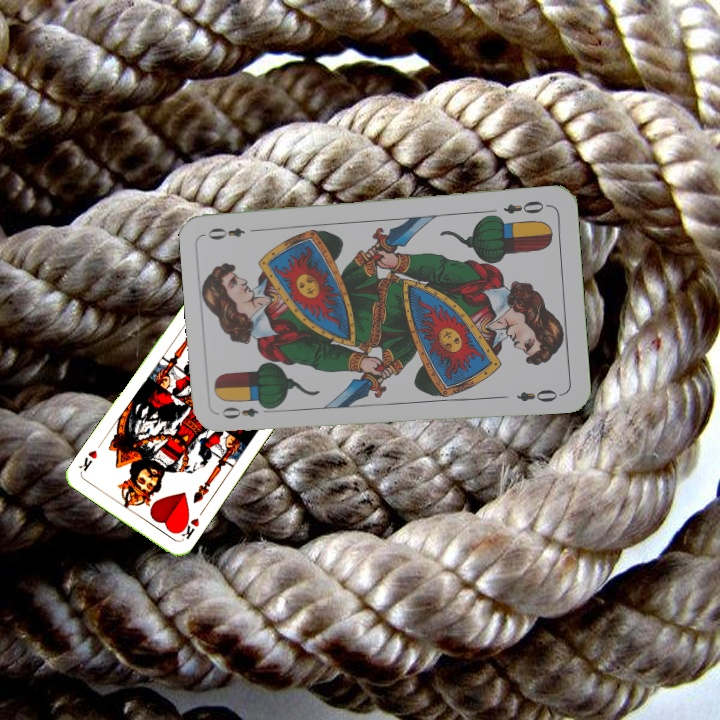EO: (218, 400, 275, 422), (499, 196, 547, 217)
HK: (174, 513, 202, 543)
